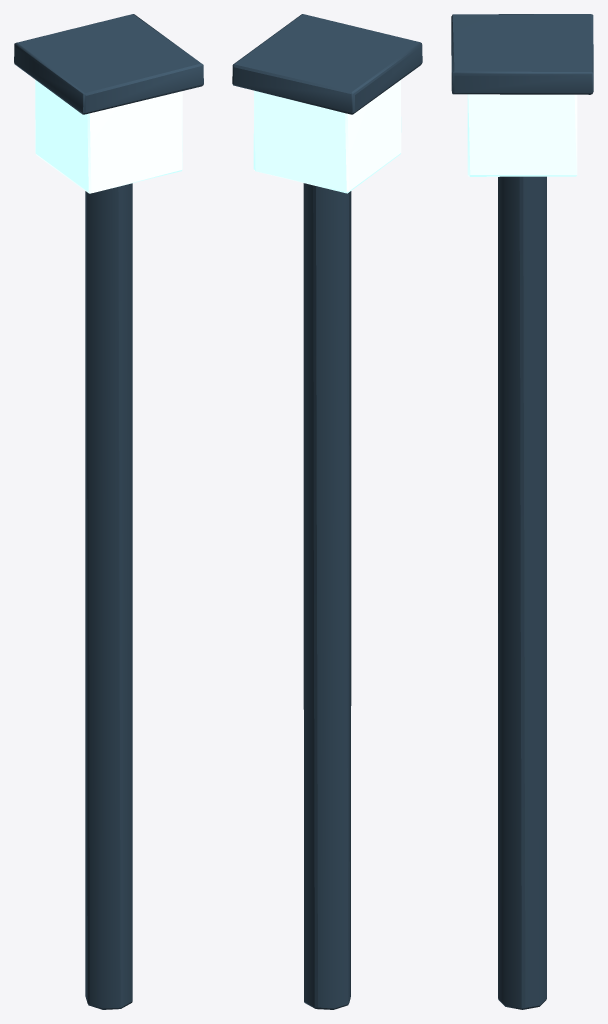
Rendered from SM_Rheinufer_Lamp_LOD1.fbx.
The picture shows the model from 3 angles, left to right: view 1: azimuth 30°, elevation 25°; view 2: azimuth 150°, elevation 25°; view 3: azimuth 270°, elevation 25°; orthographic projection.
Parts seen in each view (by area): view 1: SM_Rheinufer_Lamp_LOD1; view 2: SM_Rheinufer_Lamp_LOD1; view 3: SM_Rheinufer_Lamp_LOD1.
Boxes of the visible parts, x1=… form: SM_Rheinufer_Lamp_LOD1: x1=14, y1=14, x2=203, y2=1009; SM_Rheinufer_Lamp_LOD1: x1=232, y1=14, x2=422, y2=1009; SM_Rheinufer_Lamp_LOD1: x1=451, y1=14, x2=593, y2=1009.
Size of the model in its own units: 0.45 by 3.34 by 0.45.
